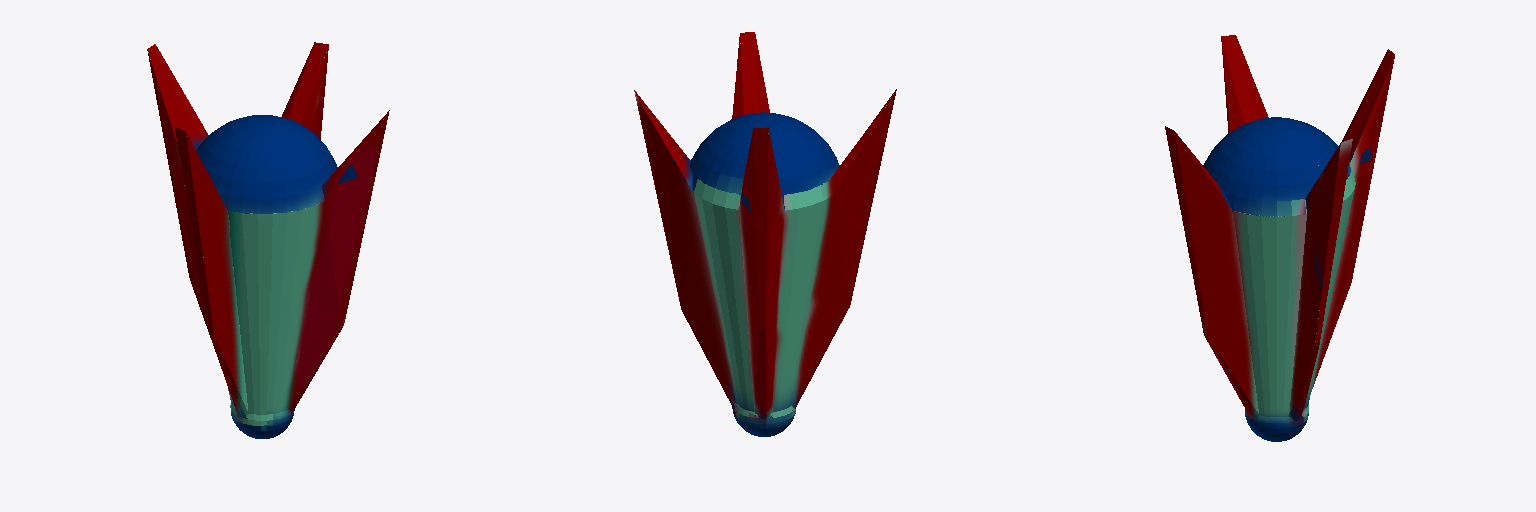
3 views of the same model, side by side, from view 1: azimuth 30°, elevation 25°; view 2: azimuth 150°, elevation 25°; view 3: azimuth 270°, elevation 25° (orthographic).
Parts seen in each view (by area): view 1: Sphere; view 2: Sphere; view 3: Sphere.
Boxes of the visible parts, box(x1,y1,x2,y2) form: Sphere: box(147, 42, 389, 438); Sphere: box(634, 32, 896, 436); Sphere: box(1165, 35, 1394, 441).
Bounding box in the file's own units: 1.12 × 1.86 × 1.08.
1 materials, 1 textured.